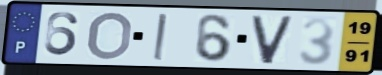3: (297, 15, 338, 67)
6: (194, 12, 235, 64), (43, 11, 81, 58)
I: (151, 12, 169, 62)
O: (85, 10, 135, 62)
V: (249, 14, 296, 66)
